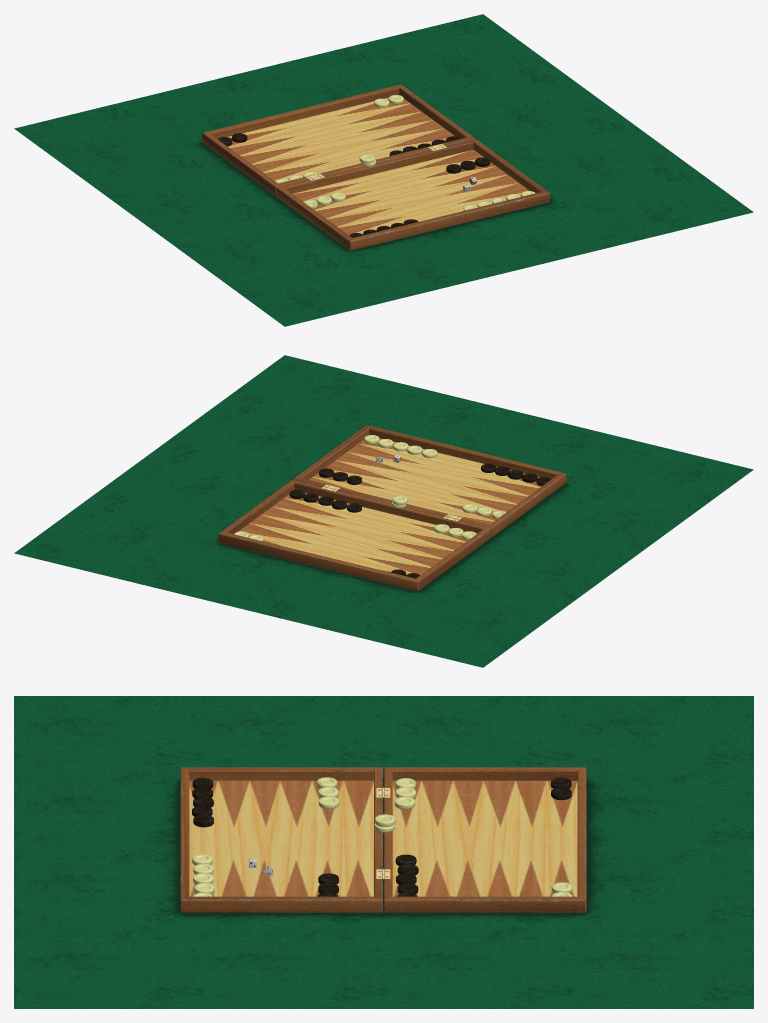
The picture shows the model from 3 angles, top to bottom: view 1: azimuth 30°, elevation 25°; view 2: azimuth 150°, elevation 25°; view 3: azimuth 270°, elevation 25°; orthographic projection. The views are drawn at different scales.
Visible parts, largest first — view 1: 01_kumas, 04_ahsap, 02_beyazlar, 03_siyahlar; view 2: 01_kumas, 04_ahsap, 03_siyahlar, 02_beyazlar; view 3: 01_kumas, 04_ahsap, 02_beyazlar, 03_siyahlar.
Part boxes in pixels (bbox=[...]): 01_kumas: bbox=[14, 14, 753, 326]; 04_ahsap: bbox=[202, 84, 549, 250]; 02_beyazlar: bbox=[275, 95, 535, 210]; 03_siyahlar: bbox=[218, 133, 490, 237]; 01_kumas: bbox=[14, 355, 753, 667]; 04_ahsap: bbox=[218, 425, 566, 591]; 03_siyahlar: bbox=[289, 463, 550, 578]; 02_beyazlar: bbox=[234, 435, 505, 541]; 01_kumas: bbox=[14, 696, 753, 1008]; 04_ahsap: bbox=[180, 767, 586, 912]; 02_beyazlar: bbox=[192, 777, 572, 896]; 03_siyahlar: bbox=[192, 777, 571, 896].
Bounding box in the file's own units: 2 × 0.069 × 2.
6 materials, 6 textured.
